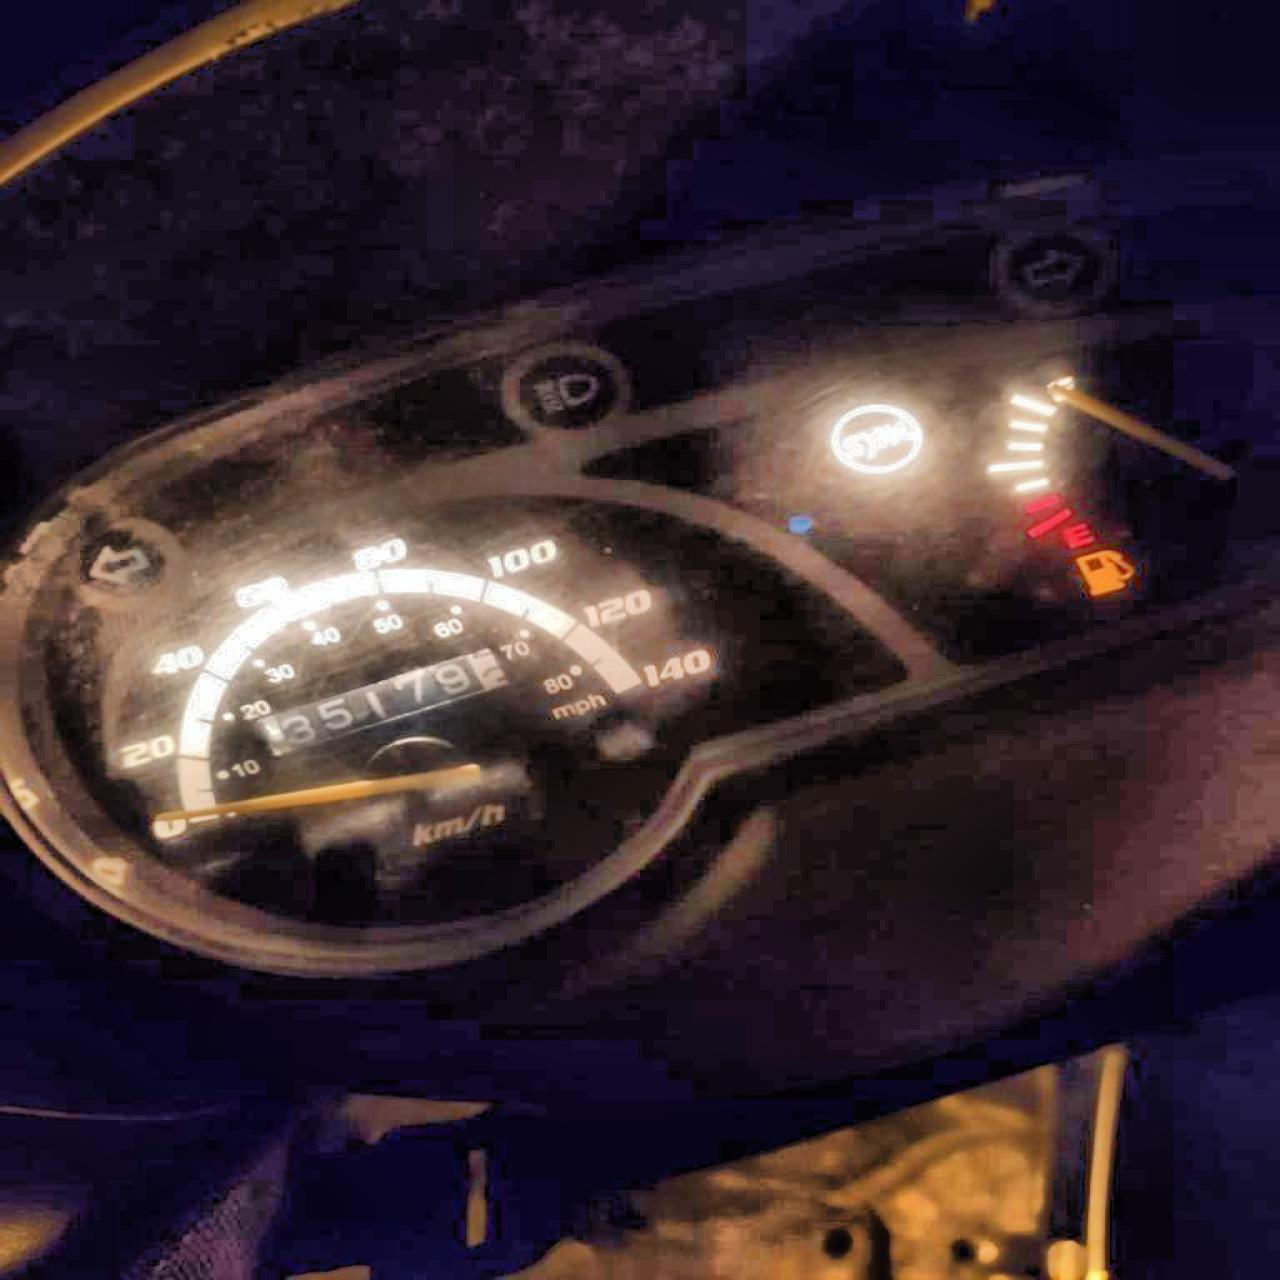0: (253, 697, 270, 715), (279, 661, 293, 679)
1: (360, 686, 387, 720)
2: (244, 702, 254, 719)
3: (277, 712, 315, 745), (478, 663, 509, 688), (261, 666, 278, 682)
5: (313, 695, 354, 730)
7: (390, 668, 423, 703), (497, 644, 513, 660)
9: (430, 661, 470, 696)
odometer: (244, 644, 517, 758)
